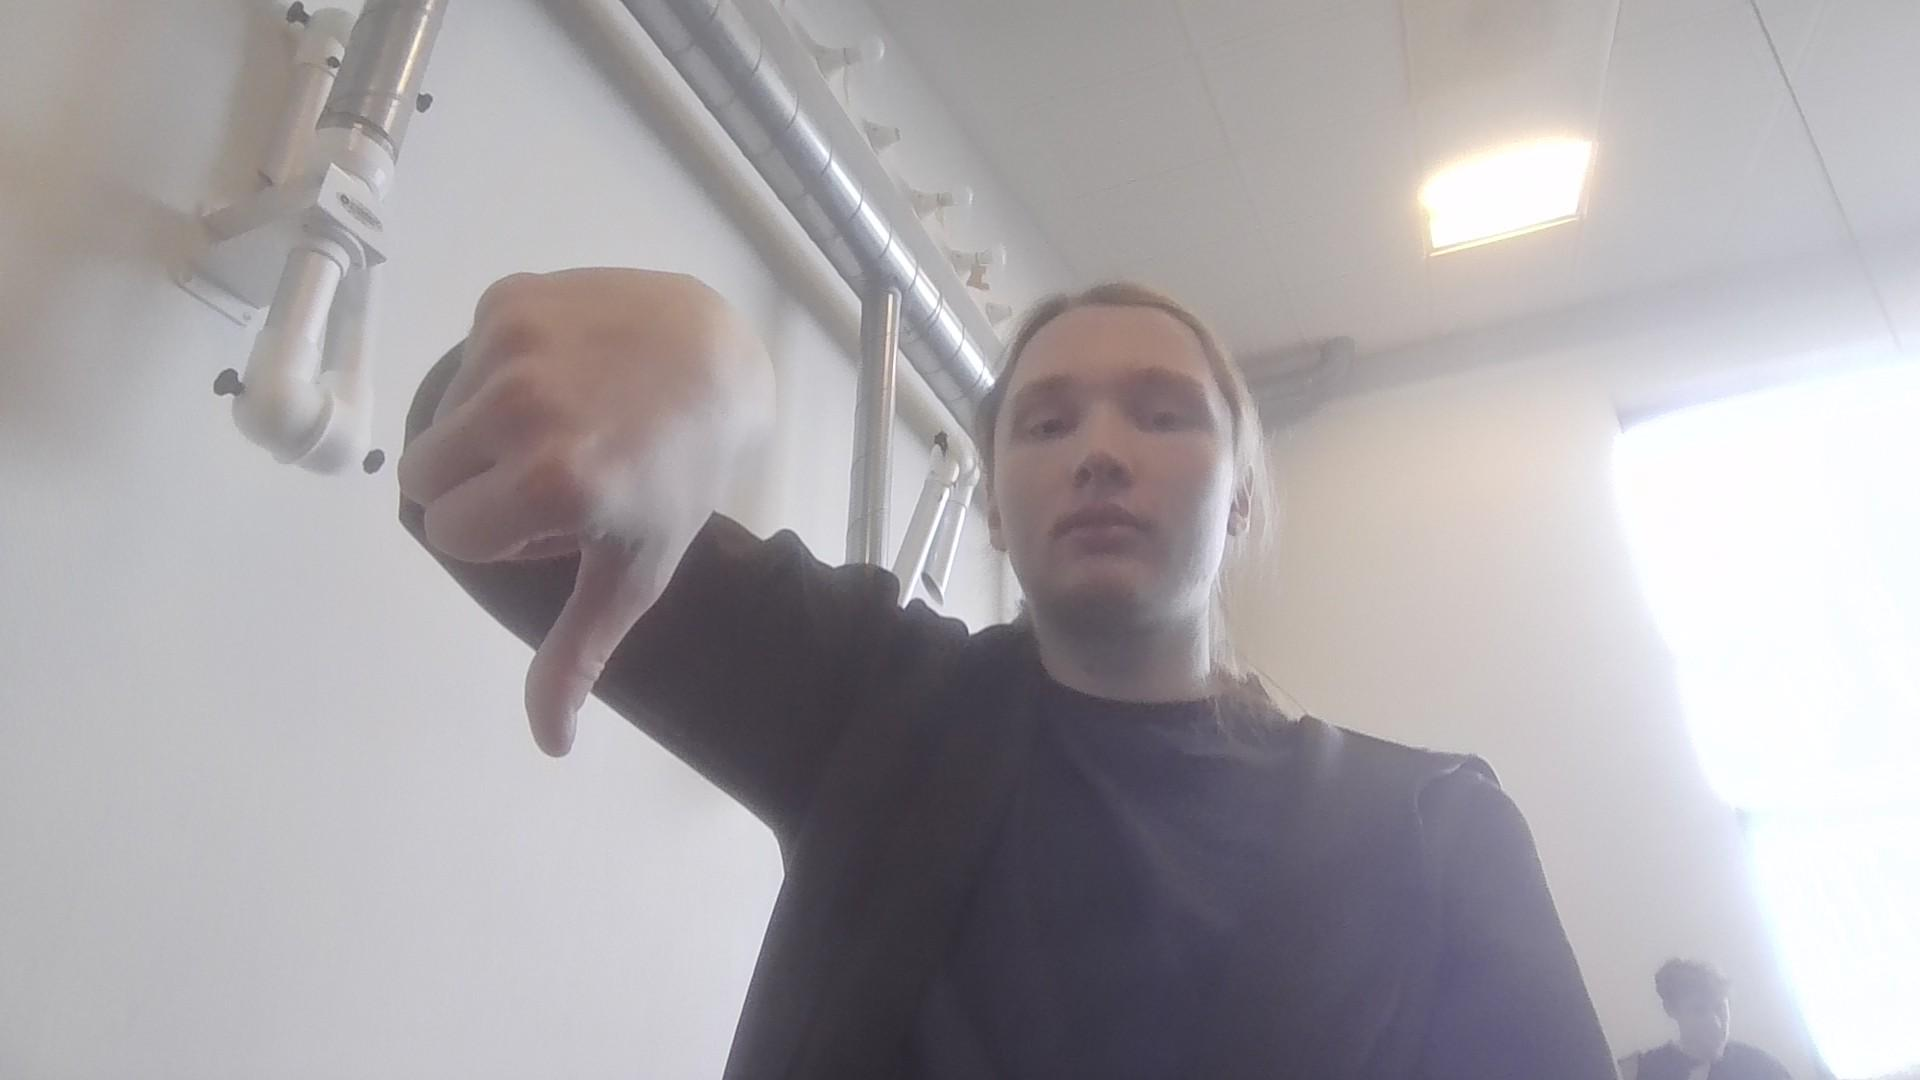thumbs down: (400, 270, 775, 765)
